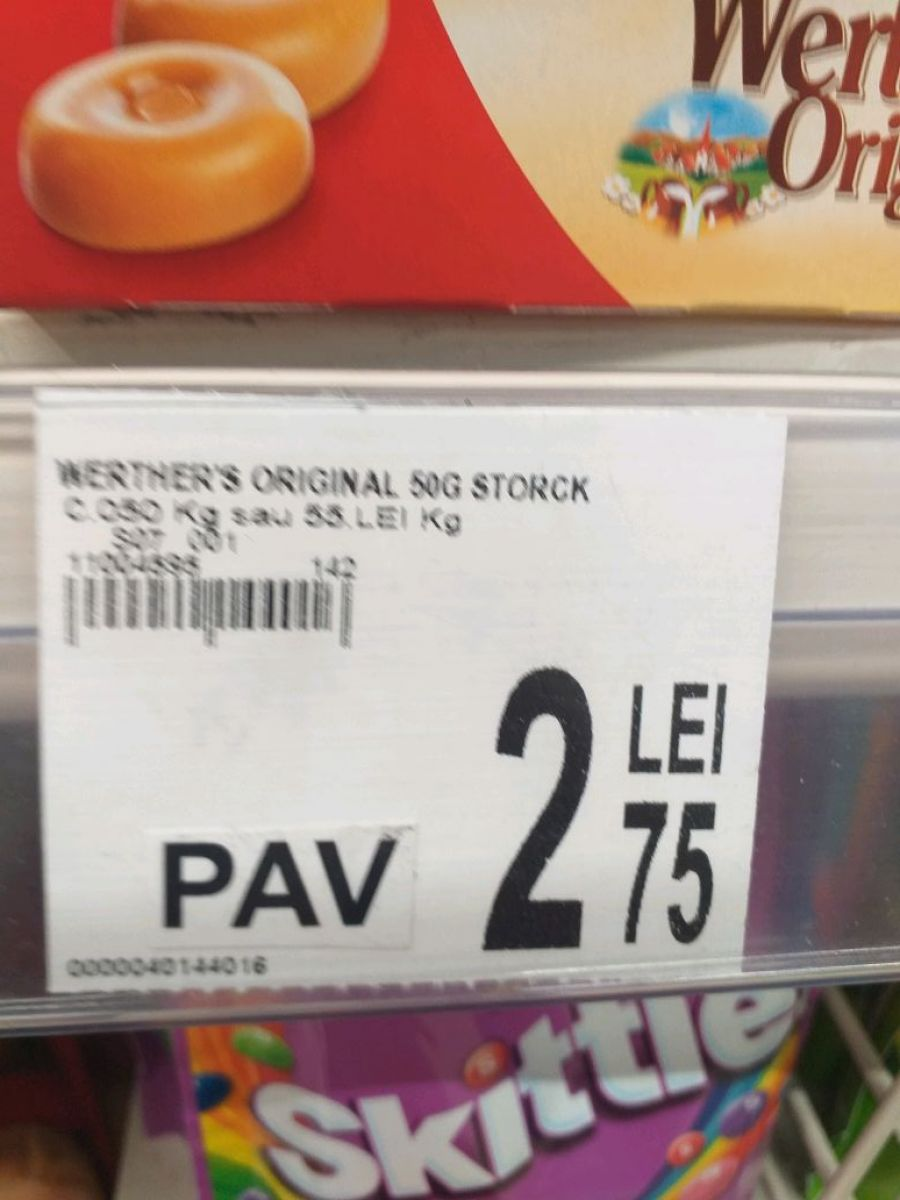bardcode: (63, 952, 271, 982)
list: (23, 382, 795, 993)
name: (52, 454, 602, 500)
price: (471, 656, 730, 956)
